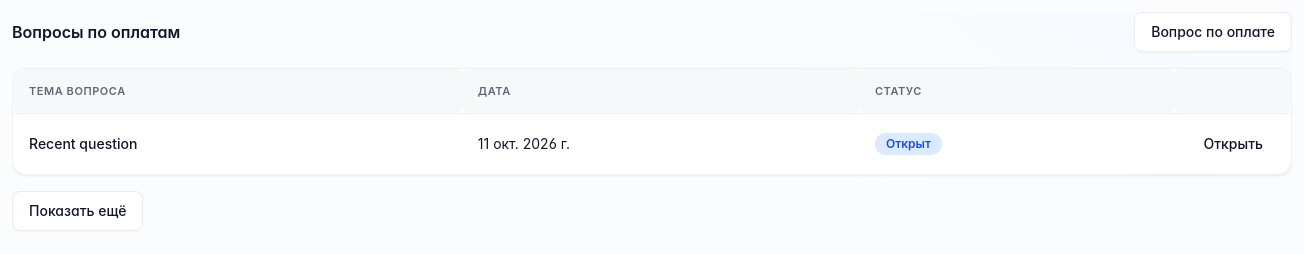
Scenario: loads older private finance questions using the selected actor’s cursor
The image size is (1304, 254).
Check: the text "Recent question" is shown, box [13,113,462,174]
Click the button "Показать ещё" at (78, 210), box [12,190,144,230]
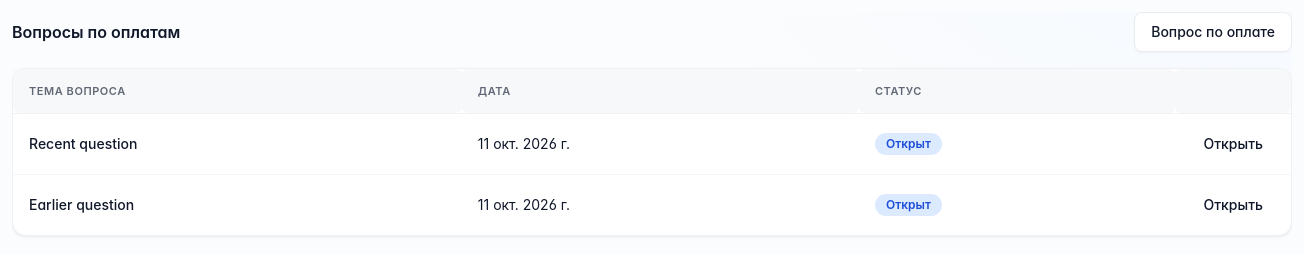
Check: the text "Recent question" is shown, box [13,113,462,174]
Check: the text "Earlier question" is shown, box [13,174,462,234]
